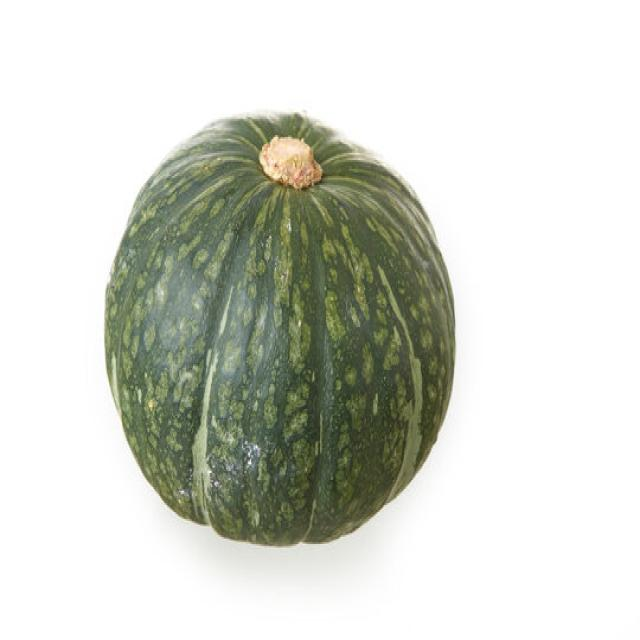Pumpkin: (103, 106, 456, 544)
